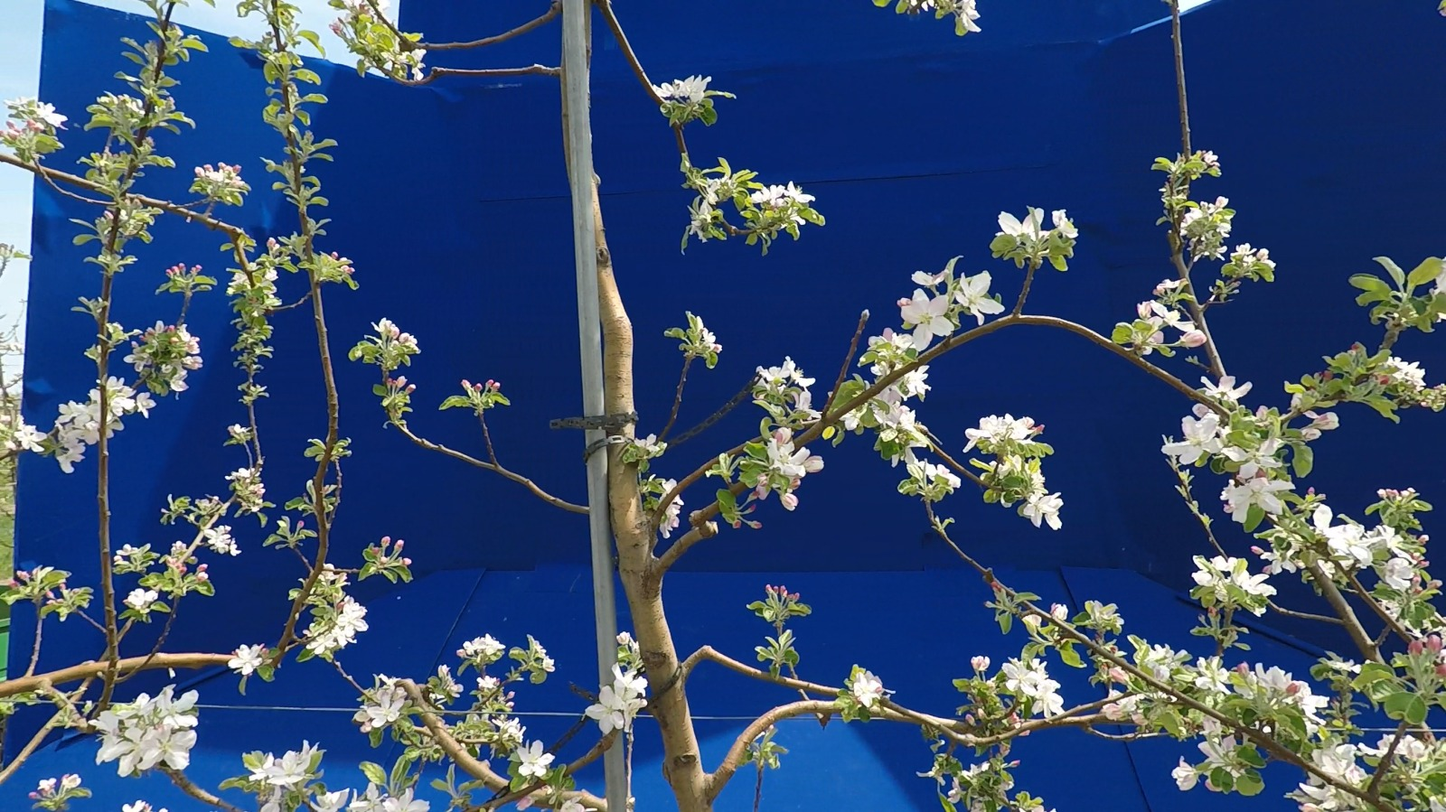flower: (1162, 404, 1296, 524), (89, 685, 199, 777), (1310, 503, 1421, 593), (869, 366, 932, 479), (1192, 537, 1302, 598), (1242, 663, 1330, 725), (875, 289, 955, 356), (249, 741, 319, 812), (765, 428, 824, 511), (582, 663, 648, 737), (1309, 734, 1395, 789), (1145, 645, 1238, 695), (756, 357, 823, 425), (1002, 658, 1066, 723), (347, 765, 430, 812), (55, 389, 101, 473), (307, 596, 369, 655), (353, 674, 413, 733), (1135, 301, 1207, 349), (102, 375, 156, 438), (963, 414, 1038, 453), (954, 271, 1005, 326), (1018, 470, 1064, 530), (1200, 356, 1253, 406), (1300, 772, 1357, 812), (1093, 695, 1149, 733), (652, 75, 714, 106), (1033, 208, 1078, 250), (195, 516, 241, 556), (850, 671, 896, 708), (751, 182, 815, 208), (1181, 197, 1229, 228), (14, 414, 52, 453), (1386, 357, 1426, 393), (699, 175, 728, 223), (517, 741, 555, 777), (925, 460, 961, 494), (168, 356, 202, 391), (1085, 601, 1123, 631), (229, 645, 267, 675), (383, 323, 419, 354), (999, 212, 1037, 241), (1394, 735, 1434, 762), (30, 102, 68, 130), (660, 495, 684, 539), (695, 317, 722, 353), (1173, 758, 1202, 790), (956, 0, 981, 36), (311, 789, 350, 812), (529, 638, 555, 672), (464, 635, 506, 656), (1244, 249, 1276, 275), (493, 718, 526, 743), (840, 403, 869, 431), (125, 589, 158, 613), (1326, 653, 1362, 674), (177, 325, 201, 354), (912, 266, 947, 285), (948, 777, 967, 812), (258, 262, 278, 294), (124, 350, 151, 372), (410, 49, 427, 83), (1199, 714, 1225, 736), (1198, 742, 1225, 763), (560, 797, 597, 812), (634, 434, 661, 454), (1430, 263, 1446, 296), (195, 165, 226, 182), (690, 220, 713, 242), (1214, 735, 1237, 757), (1022, 615, 1047, 635), (657, 479, 678, 502), (871, 360, 891, 384), (444, 673, 464, 697), (1109, 667, 1130, 689), (61, 775, 81, 798), (1153, 280, 1181, 296), (756, 472, 772, 500), (229, 270, 251, 289), (1204, 770, 1223, 792), (1316, 413, 1339, 430), (972, 657, 990, 677), (123, 800, 153, 812), (225, 469, 250, 483), (1318, 560, 1336, 579), (1049, 603, 1068, 621), (1231, 244, 1257, 257), (229, 425, 250, 440), (790, 208, 806, 225), (1235, 686, 1254, 700), (1216, 223, 1232, 238), (477, 677, 497, 689), (1203, 152, 1220, 166), (518, 797, 535, 811), (39, 779, 57, 791), (617, 632, 633, 645), (1216, 247, 1227, 258), (892, 454, 900, 468), (1061, 624, 1073, 632), (853, 665, 866, 672), (1229, 751, 1235, 759), (319, 751, 324, 753)
